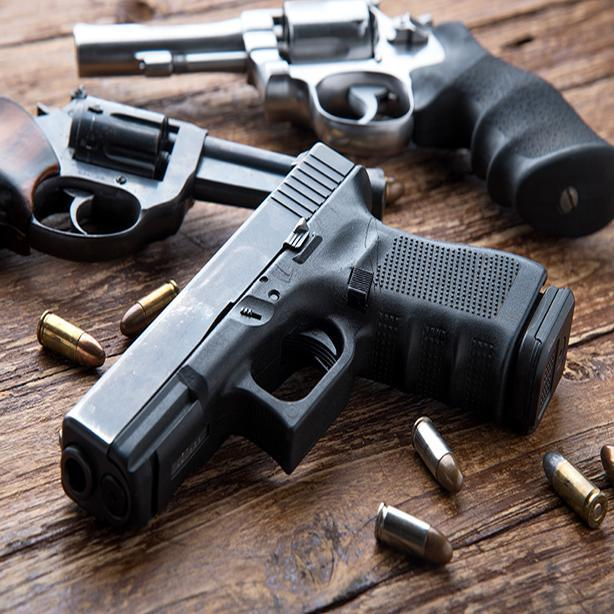Firearm: (59, 165, 593, 560), (65, 1, 614, 244)
